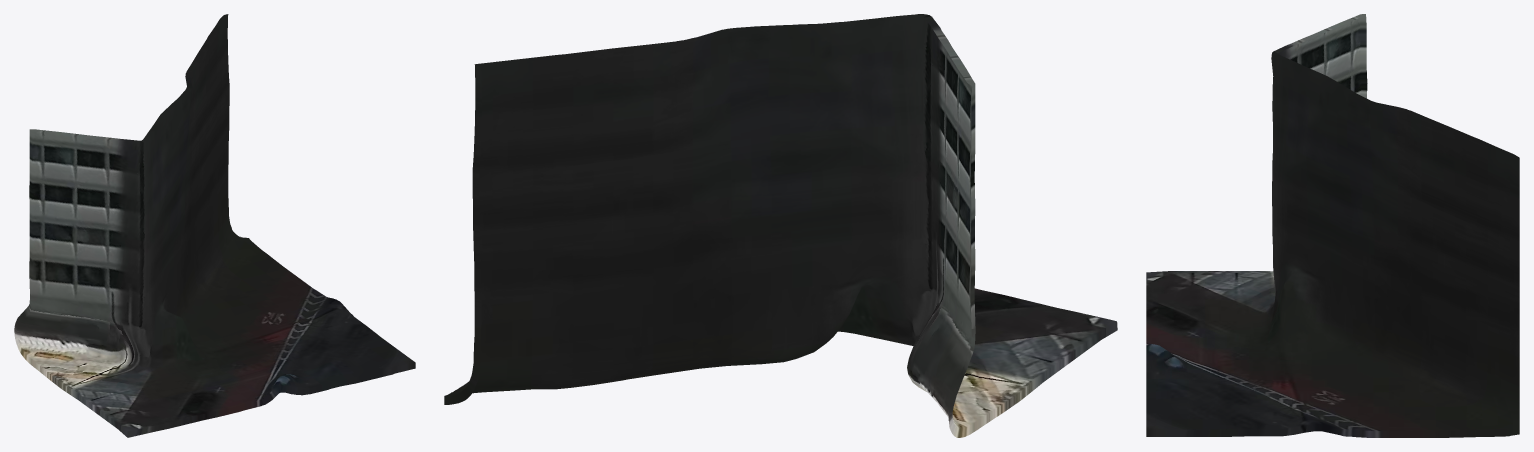
File: z20-167778-405236-h0-yup-uvflip-v3-world.glb
3 renders of one model, left to right at view 1: azimuth 30°, elevation 25°; view 2: azimuth 150°, elevation 25°; view 3: azimuth 270°, elevation 25°, orthographic. The views are drawn at different scales.
Size of the model in its own units: 30.2 by 23.88 by 30.32.
1 material, 1 textured.
